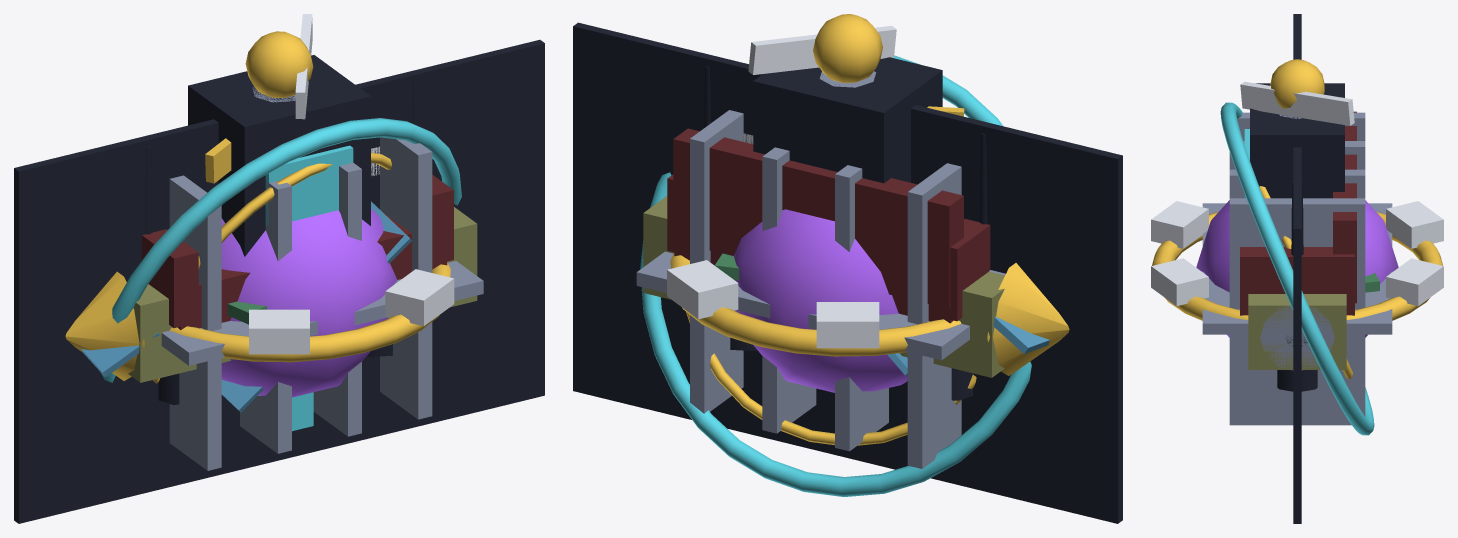
File: deep-field-kit.glb
3 views of the same model, side by side, from view 1: azimuth 30°, elevation 25°; view 2: azimuth 150°, elevation 25°; view 3: azimuth 270°, elevation 25° (orthographic). The views are drawn at different scales.
Visible parts, largest first — view 1: wicket-wall, improbability-wire, nutrimatic-body, cooling-fin-1.5, milliways-ring-b, cooling-fin--1.5, b-ark-hull, milliways-ring-a, cooling-fin--0.5, cooling-fin-0.5, generation-drive, fjord-gantry (+14 smaller); view 2: wicket-wall, sofa-back, nutrimatic-body, improbability-wire, milliways-ring-b, cooling-fin--1.5, cooling-fin-1.5, b-ark-hull, milliways-ring-a, cooling-fin--0.5, generation-drive, cooling-fin-0.5 (+11 smaller); view 3: cooling-fin-1.5, nutrimatic-body, milliways-ring-b, sofa-arm-1, b-ark-hull, wicket-wall, improbability-wire, fjord-gantry, milliways-ring-a, signpost-board-2, generation-hull, milliways-pavilion-2 (+10 smaller).
Boxes of the visible parts, x1=… form: wicket-wall: x1=14, y1=39, x2=544, y2=523; improbability-wire: x1=221, y1=208, x2=397, y2=397; nutrimatic-body: x1=188, y1=55, x2=370, y2=256; cooling-fin-1.5: x1=380, y1=137, x2=432, y2=419; milliways-ring-b: x1=100, y1=118, x2=461, y2=382; cooling-fin--1.5: x1=169, y1=175, x2=221, y2=470; b-ark-hull: x1=128, y1=207, x2=477, y2=382; milliways-ring-a: x1=170, y1=262, x2=450, y2=362; cooling-fin--0.5: x1=240, y1=180, x2=291, y2=453; cooling-fin-0.5: x1=313, y1=162, x2=361, y2=436; generation-drive: x1=65, y1=271, x2=144, y2=380; fjord-gantry: x1=161, y1=261, x2=483, y2=365; wicket-wall: x1=573, y1=22, x2=1122, y2=523; sofa-back: x1=673, y1=128, x2=963, y2=308; nutrimatic-body: x1=753, y1=57, x2=942, y2=183; improbability-wire: x1=733, y1=209, x2=907, y2=392; milliways-ring-b: x1=640, y1=55, x2=1031, y2=496; cooling-fin--1.5: x1=907, y1=163, x2=961, y2=468; cooling-fin-1.5: x1=690, y1=110, x2=743, y2=413; b-ark-hull: x1=643, y1=196, x2=1004, y2=377; milliways-ring-a: x1=670, y1=253, x2=961, y2=356; cooling-fin--0.5: x1=835, y1=165, x2=888, y2=451; generation-drive: x1=987, y1=263, x2=1069, y2=375; cooling-fin-0.5: x1=762, y1=147, x2=816, y2=433; cooling-fin-1.5: x1=1229, y1=198, x2=1365, y2=425; nutrimatic-body: x1=1250, y1=83, x2=1344, y2=198; milliways-ring-b: x1=1220, y1=102, x2=1374, y2=435; sofa-arm-1: x1=1240, y1=247, x2=1354, y2=315; b-ark-hull: x1=1248, y1=294, x2=1346, y2=369; wicket-wall: x1=1293, y1=14, x2=1301, y2=523; improbability-wire: x1=1196, y1=200, x2=1398, y2=337; fjord-gantry: x1=1202, y1=203, x2=1392, y2=334; milliways-ring-a: x1=1152, y1=212, x2=1442, y2=320; signpost-board-2: x1=1240, y1=81, x2=1354, y2=125; generation-hull: x1=1260, y1=305, x2=1334, y2=370; milliways-pavilion-2: x1=1151, y1=201, x2=1208, y2=248.
Size of the model in its own units: 7.5 by 5.83 by 4.32.
